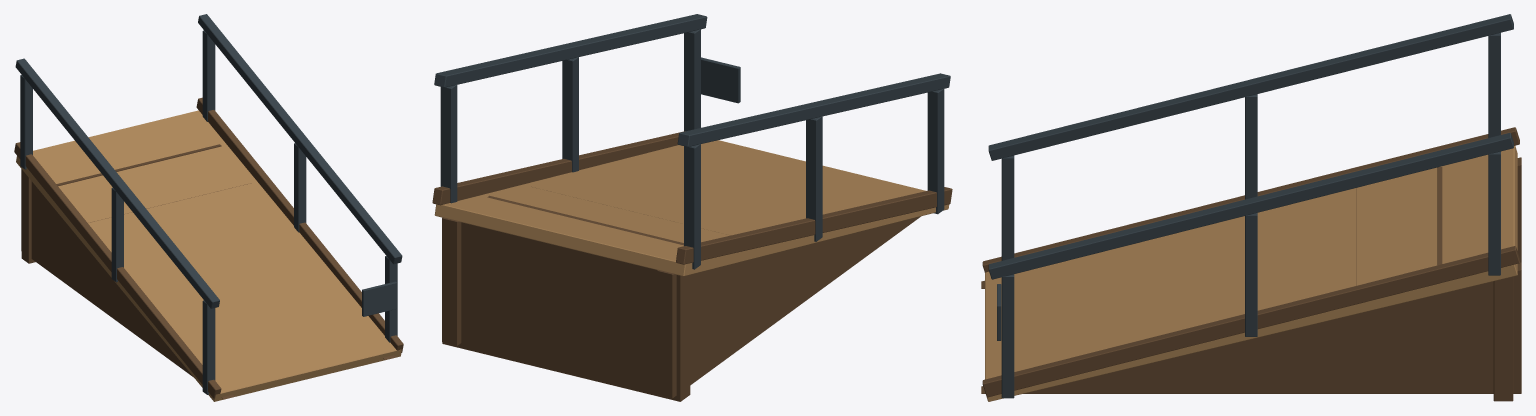
The model's file is S015_access_ramp_rebuilt.glb.
3 views of the same model, side by side, from view 1: azimuth 30°, elevation 25°; view 2: azimuth 150°, elevation 25°; view 3: azimuth 270°, elevation 25° (orthographic). The views are drawn at different scales.
Visible parts, largest first — view 1: Scenic_framing_warm_bare_timber, Dark_painted_steel, Dark_stained_structural_timber; view 2: Dark_stained_structural_timber, Scenic_framing_warm_bare_timber, Dark_painted_steel; view 3: Scenic_framing_warm_bare_timber, Dark_stained_structural_timber, Dark_painted_steel.
Part boxes in pixels (bbox=[...]): Scenic_framing_warm_bare_timber: bbox=[16, 110, 401, 401]; Dark_painted_steel: bbox=[15, 14, 402, 394]; Dark_stained_structural_timber: bbox=[14, 97, 403, 399]; Dark_stained_structural_timber: bbox=[432, 131, 952, 401]; Scenic_framing_warm_bare_timber: bbox=[434, 140, 949, 276]; Dark_painted_steel: bbox=[434, 14, 950, 269]; Scenic_framing_warm_bare_timber: bbox=[985, 146, 1517, 401]; Dark_stained_structural_timber: bbox=[981, 127, 1521, 401]; Dark_painted_steel: bbox=[988, 14, 1513, 398].
Bounding box in the file's own units: 1.63 × 1.64 × 3.
